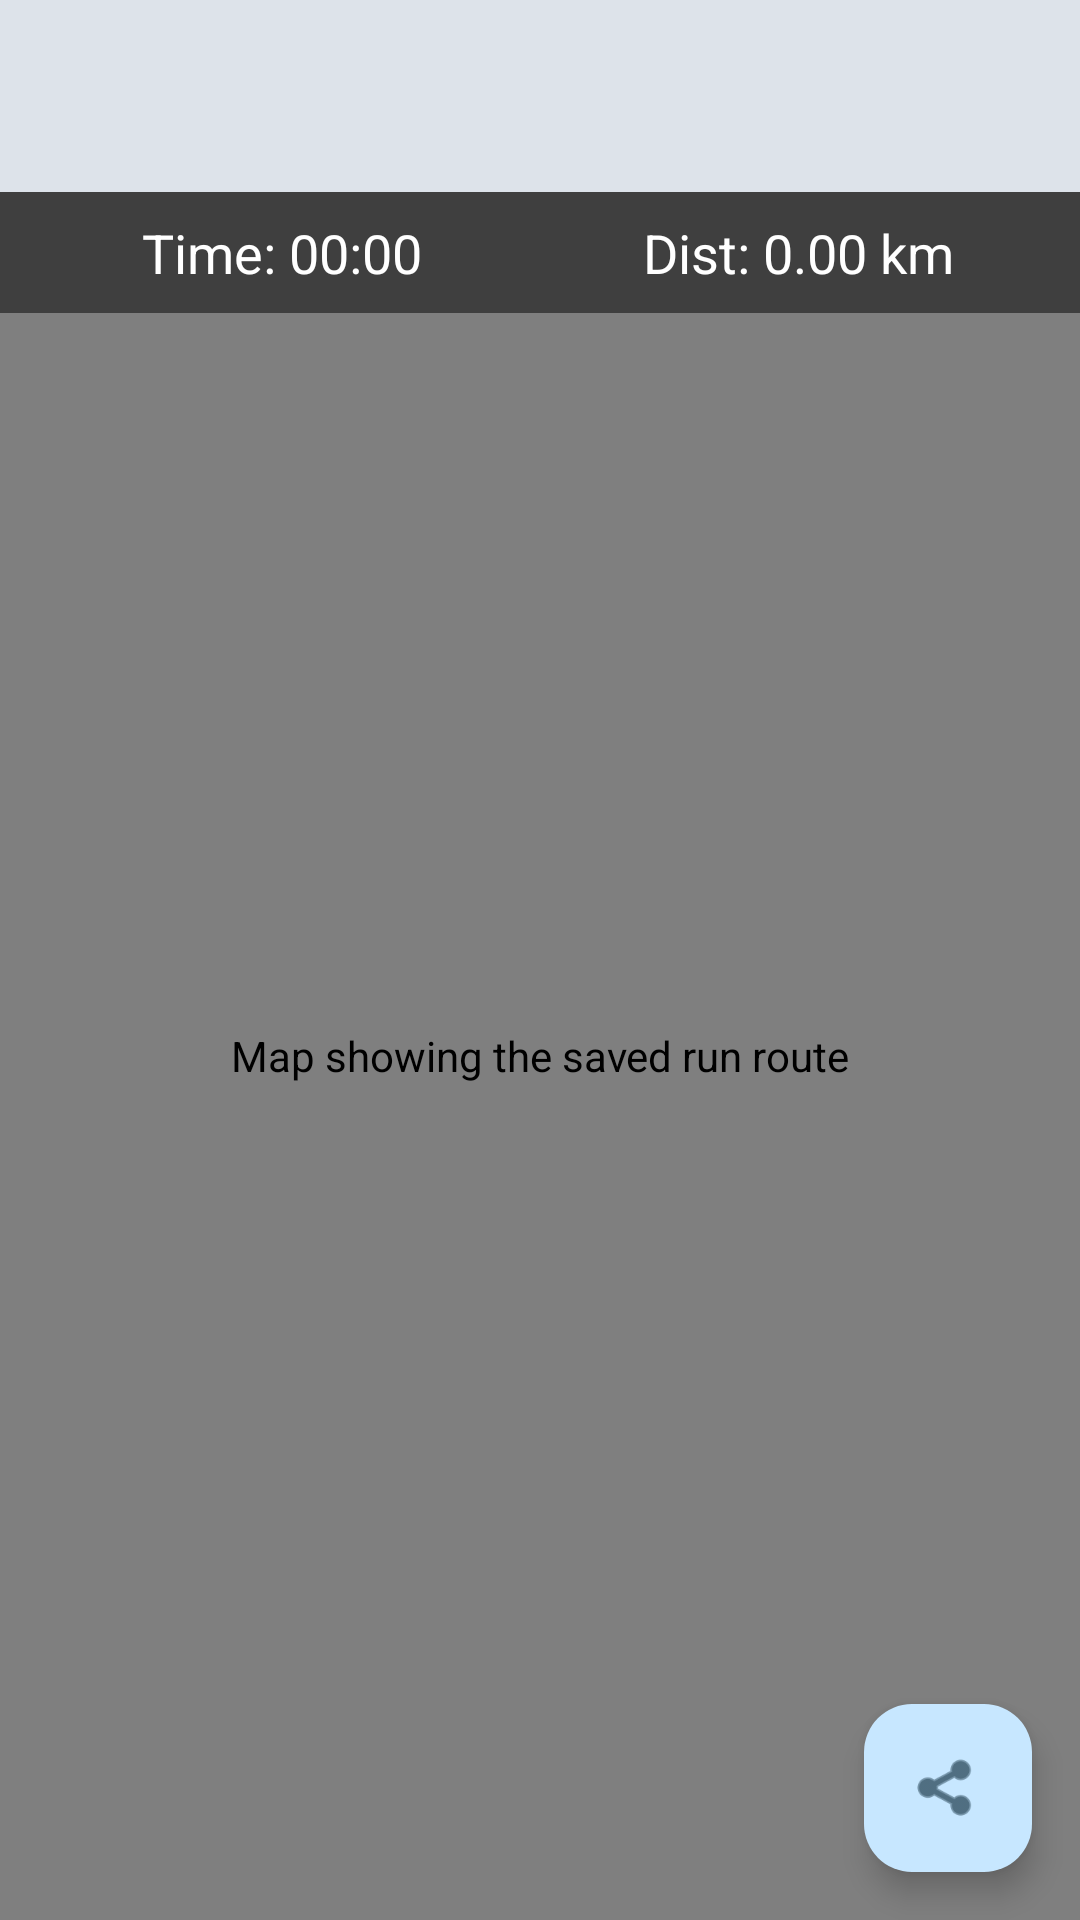

Icons on this 1080×1920 Android screen, each with its box as BBox(x1, y1, x2, y2):
Share Run: BBox(864, 1704, 1032, 1872)
